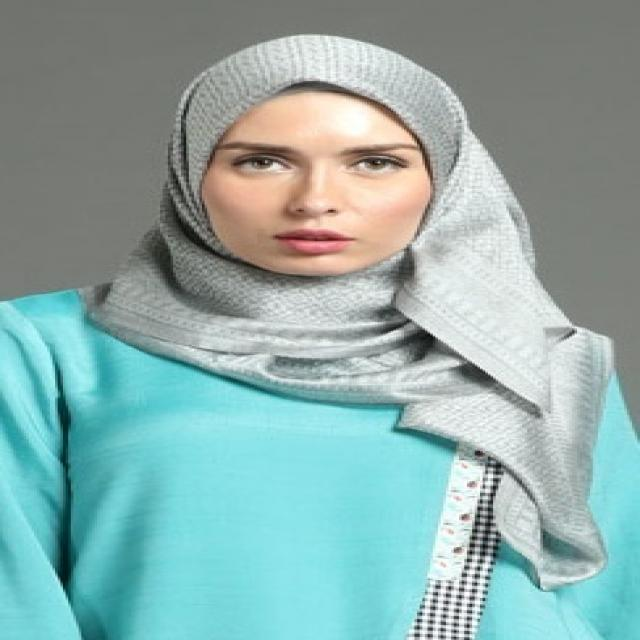head: (173, 25, 463, 283)
